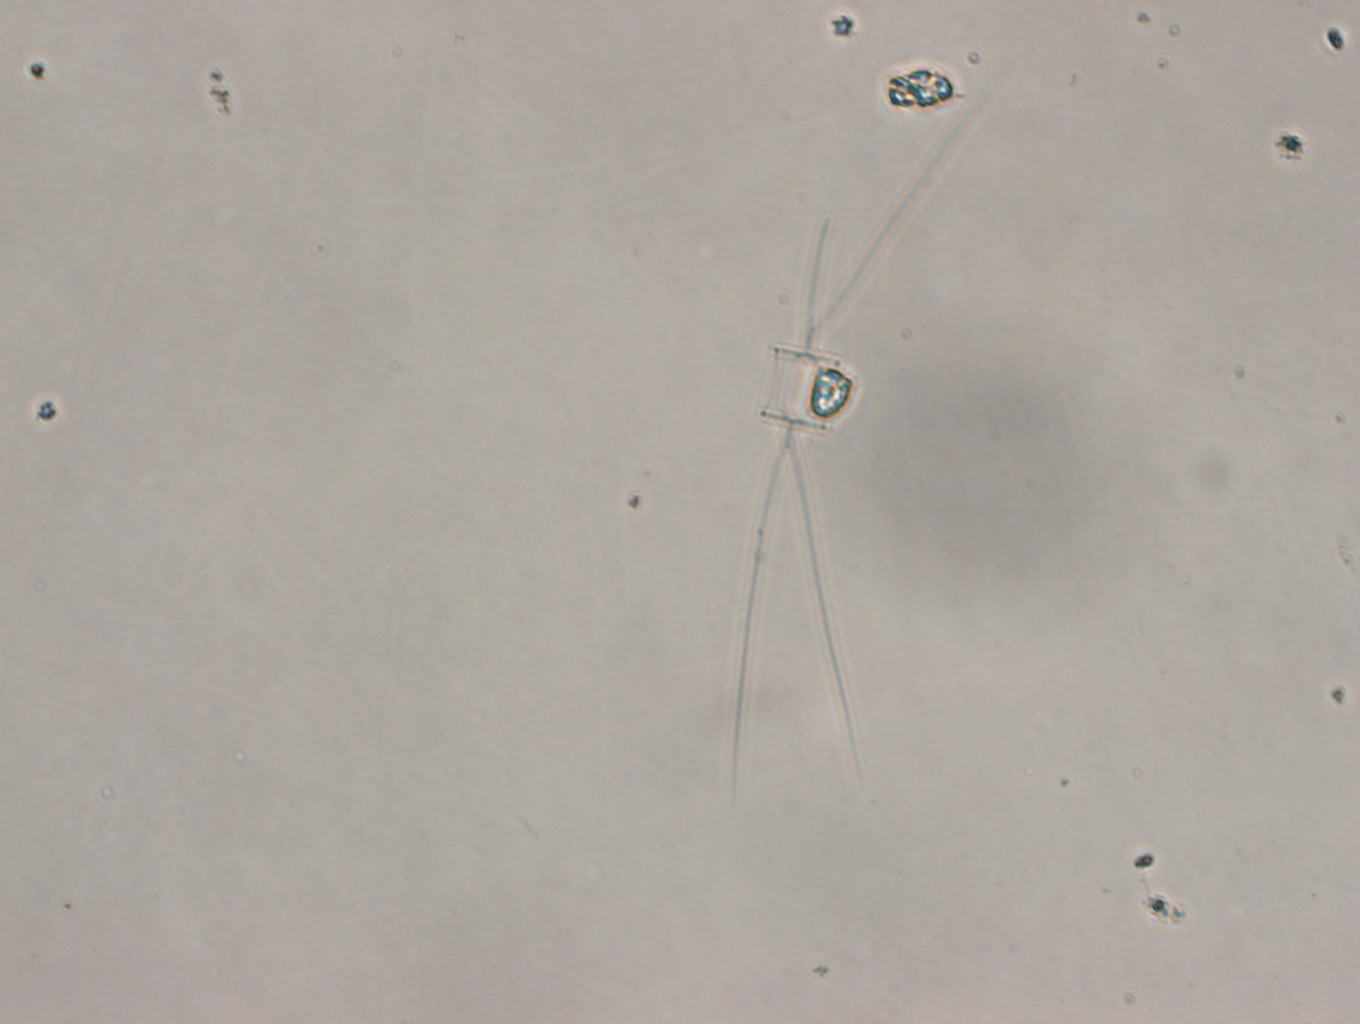chaetoceros: (728, 65, 1001, 790)
